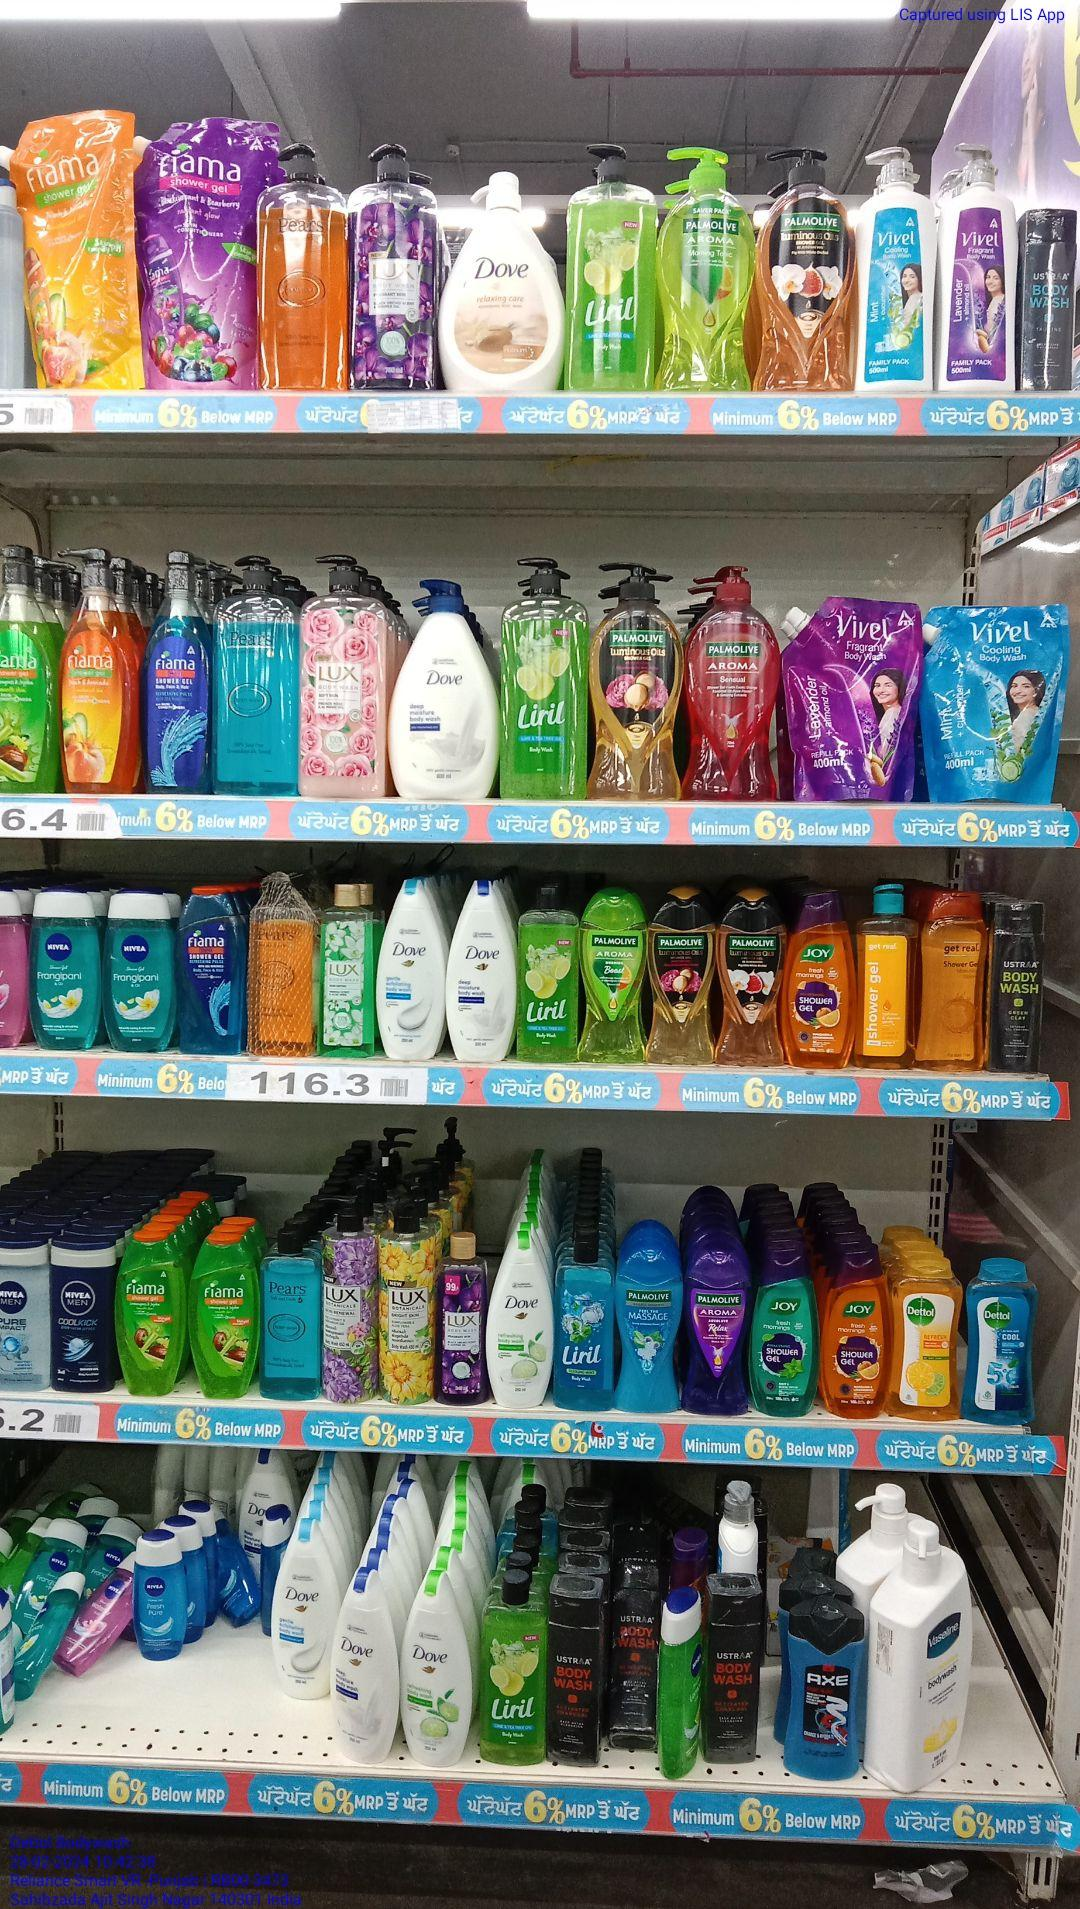Dettol_Bodywash_Cool: (970, 1259, 1038, 1429)
Dettol_Bodywash_Refresh: (894, 1256, 959, 1425)
Dove_Deep_Moisture_Body_Wash_250ML: (332, 1568, 393, 1767), (450, 880, 512, 1063)
Dove_Gentle_Exfoliating_Body_Wash_250ML: (379, 877, 446, 1062), (274, 1527, 330, 1707)
Dove_Refreshing_Body_Wash_250ML: (396, 1572, 468, 1769), (482, 1231, 549, 1411)
Fiama_Shower_Gel_Lemongrass_and_Jojoba_250ML: (117, 1231, 181, 1400), (191, 1234, 253, 1400)
Joy_Shower_Gel_Mandarin_and_Lemongrass_250ML: (823, 1246, 889, 1424), (789, 892, 853, 1071)
Joy_Shower_Gel_Mint_and_Eucalyptus_250ML: (755, 1248, 815, 1420)
Liril_Cooling_Mint_Body_Wash_250ML: (556, 1232, 616, 1412)
Liril_Lime_and_Tea_Tree_Oil_Body_Wash_250ML: (480, 1576, 544, 1769), (518, 885, 579, 1066)
Lux_Black_Orchid_Scent_and_Juniper_Oil_Body_Wash_245ML: (440, 1235, 481, 1408)
Lux_Body_Wash_Skin_Detox_Freesia_Scent_and_Alove_Vera_245ML: (317, 878, 376, 1058)
Nivea_Shower_Gel_Frangipani_and_Oil_250ML: (33, 882, 98, 1052), (105, 890, 172, 1055)
Palmolive_Aroma_Moments_Feel_The_Massage_Shower_Gel_250ML: (619, 1235, 679, 1412)
Palmolive_Aroma_Morning_Tonic_Shower_Gel_250ML: (583, 889, 645, 1067), (689, 1238, 750, 1419)
Palmolive_Luminous_Oils_Invigorating_Macadamia_Oil_With_Peony_250ML: (650, 890, 714, 1070)
Palmolive_Luminous_Oils_With_White_Orchid_Shower_Gel_250ML: (718, 892, 784, 1071)
Pears_Pure_Glycerin_and_Mint_Extracts_Body_Wash_250ML: (260, 1226, 321, 1400)
